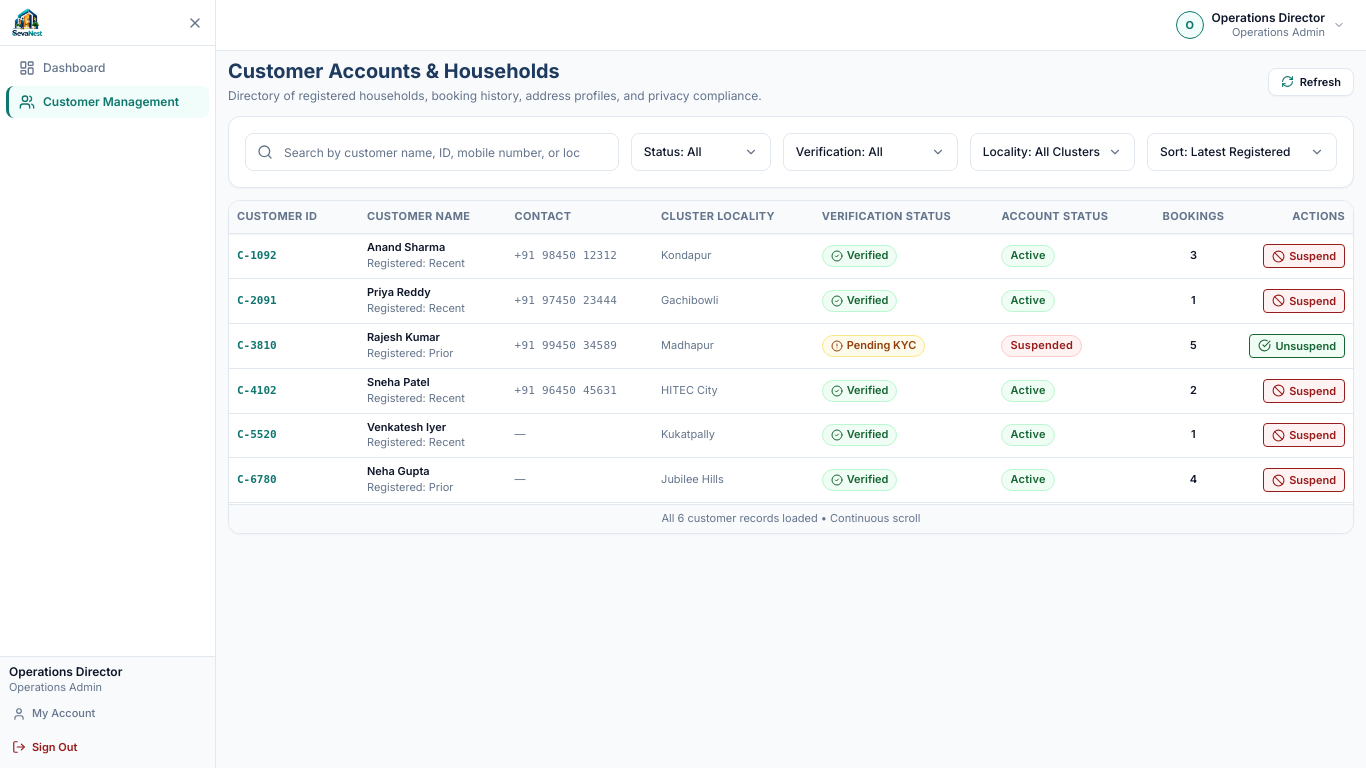
Test: SevaNest Admin Portal — Customer Suspension & Reactivation Action Workflows › 4. Canceling suspend confirmation dialog does not change account status
This screenshot has width=1366, height=768.
Expected: the text "Anand Sharma" is shown, x1=367 y1=240 x2=445 y2=254
Open Suspend Dialog
Step 1. Click the button with aria-label "Suspend customer Anand Sharma" → (1304, 256), box x1=1263 y1=244 x2=1345 y2=268
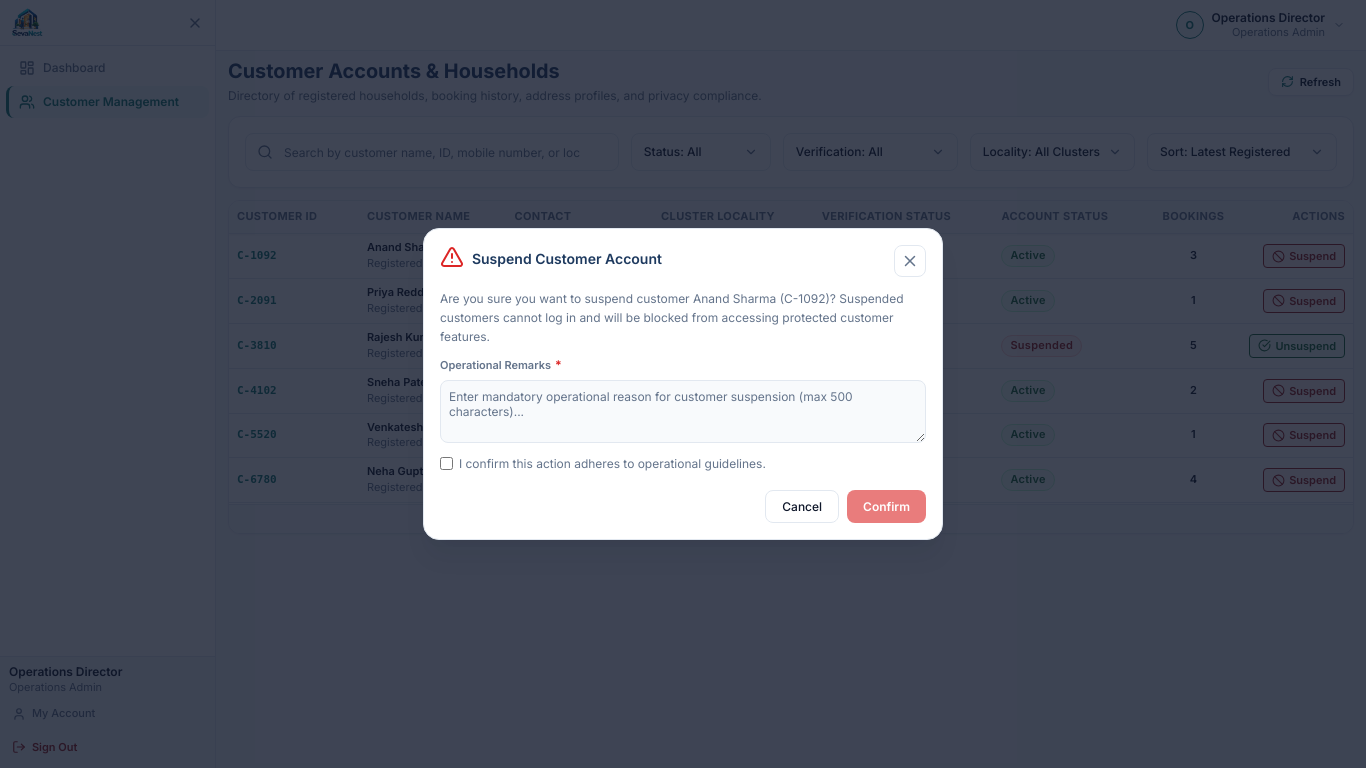
Expected: the heading "Suspend Customer Account" is shown, x1=472 y1=250 x2=662 y2=268
Expected: the text "Suspended customers cannot log in and will be blocked from accessing protected customer features" is shown, x1=440 y1=291 x2=904 y2=344
Click Cancel
Step 2. Click the button "Cancel" → (802, 507), box x1=765 y1=490 x2=839 y2=523
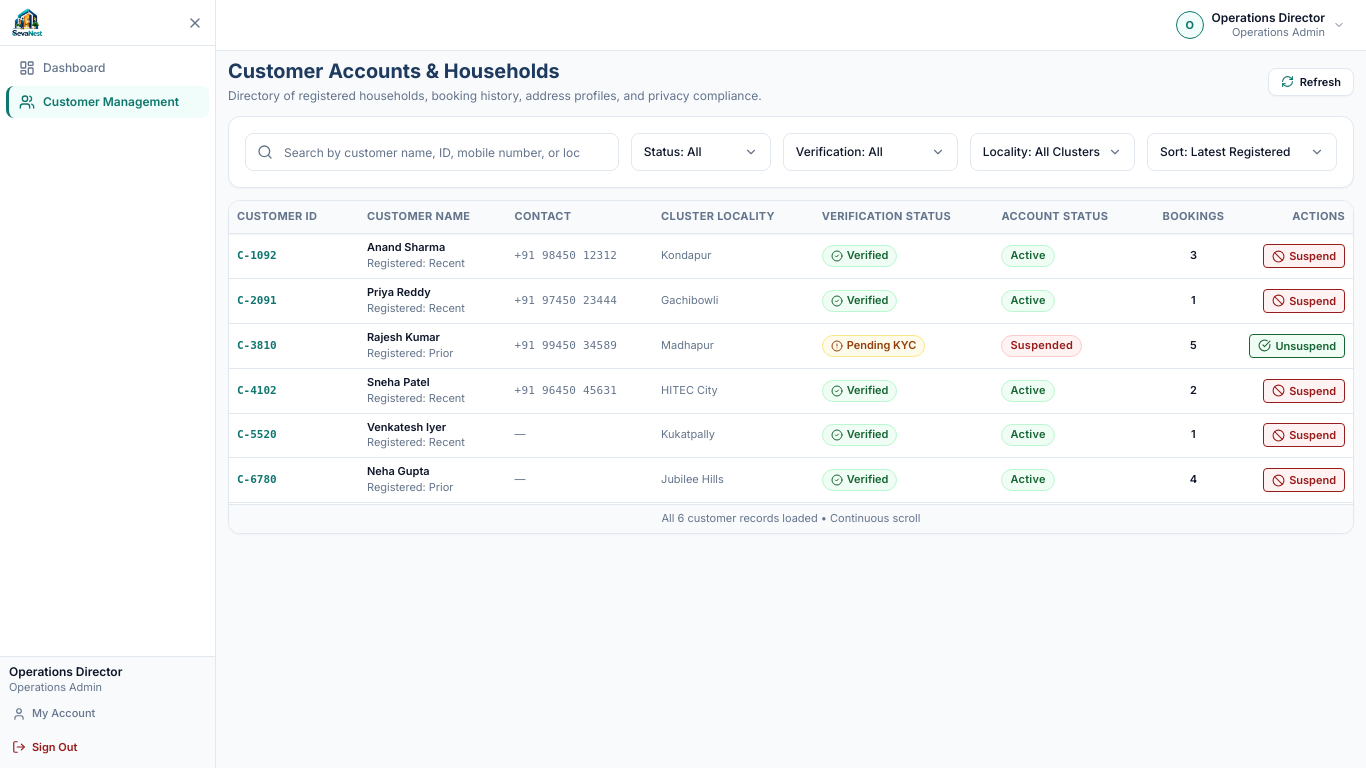
Expected: the heading "Suspend Customer Account" is gone
